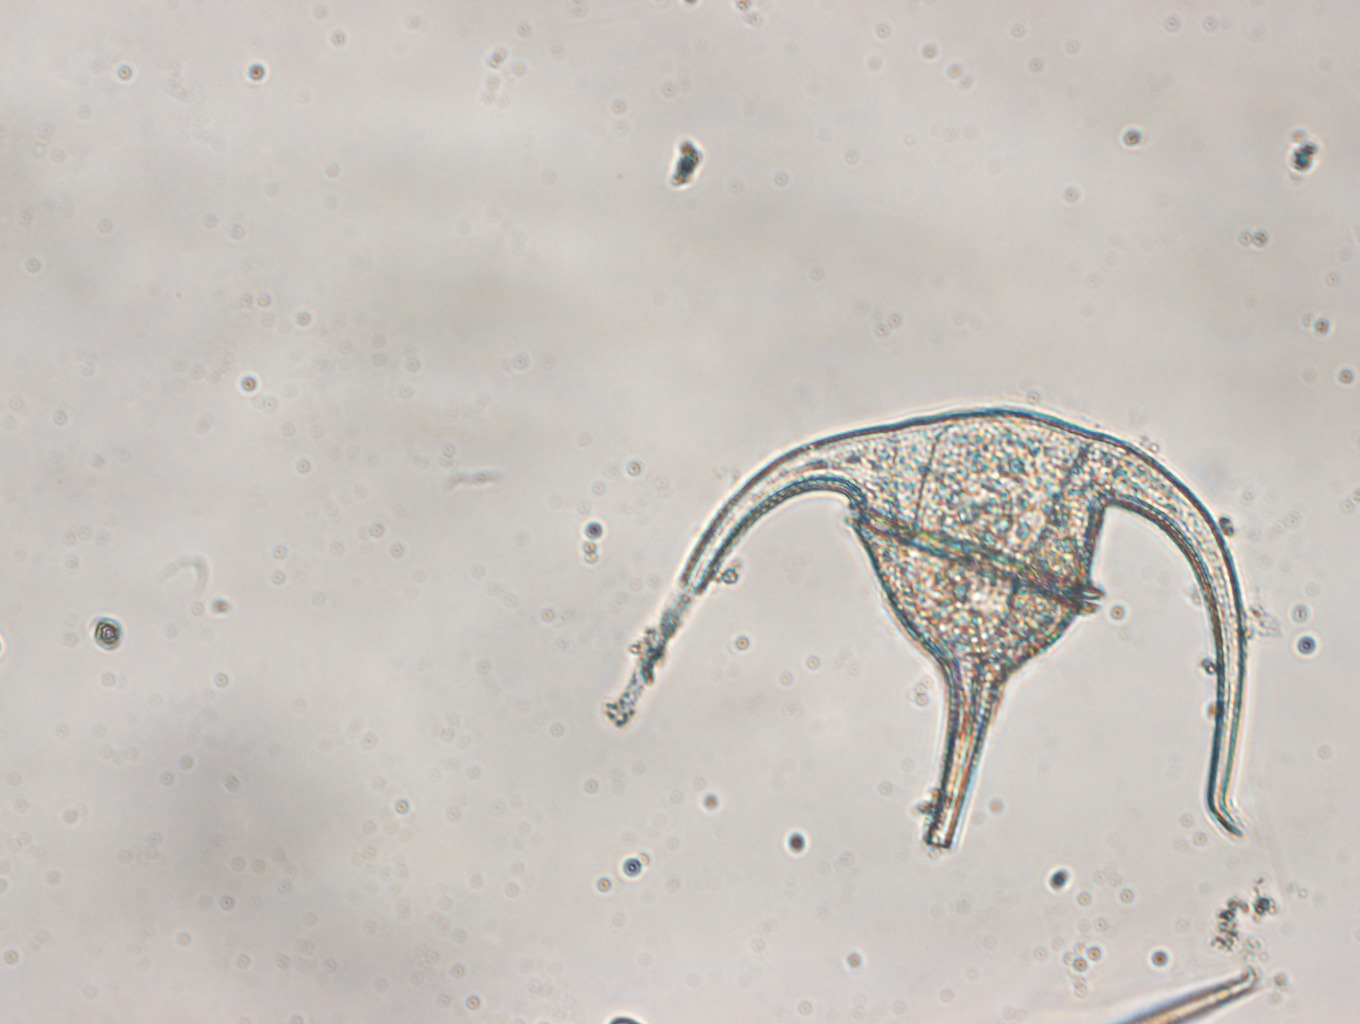ceratium tripos: (677, 404, 1249, 859)
